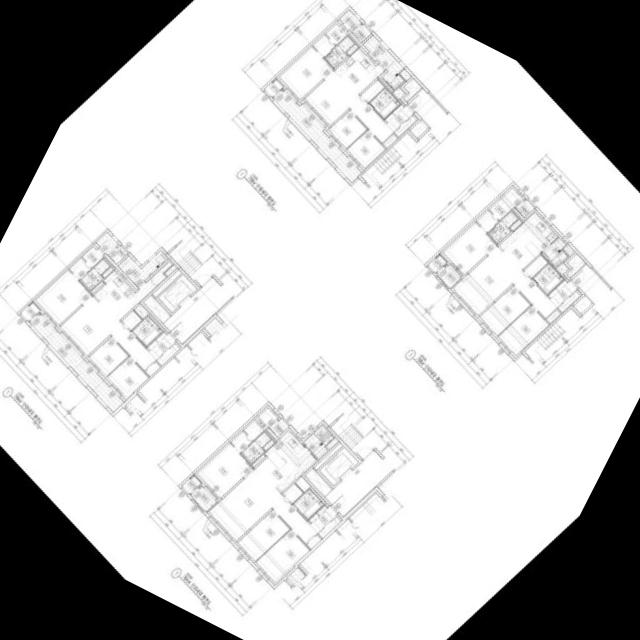background: (0, 0, 640, 640)
space_balconi: (29, 313, 124, 413), (272, 89, 361, 183), (362, 35, 404, 91), (117, 251, 168, 287), (303, 426, 333, 459), (541, 238, 567, 268), (190, 486, 216, 512), (436, 264, 461, 289), (339, 10, 361, 33)
space_bedroom: (197, 443, 253, 499), (35, 270, 91, 326), (442, 222, 496, 276), (279, 47, 333, 100), (255, 530, 309, 583), (237, 510, 289, 562), (498, 306, 548, 356), (479, 287, 530, 336), (107, 357, 148, 398), (89, 338, 128, 377), (328, 111, 367, 149), (347, 131, 385, 169)
space_dressroom: (230, 408, 277, 453), (476, 188, 522, 233), (312, 24, 347, 57), (69, 247, 103, 280)
space_elevator: (157, 275, 197, 313), (319, 448, 358, 486)
space_elevator_hall: (324, 451, 393, 517), (163, 278, 231, 344)
space_front: (547, 280, 577, 308), (146, 332, 176, 360), (384, 104, 413, 132), (308, 505, 337, 533)
space_kitchen: (95, 262, 172, 321), (257, 431, 316, 493), (499, 213, 557, 270), (335, 48, 383, 95)
space_living_room: (208, 467, 317, 544), (453, 247, 557, 319), (60, 295, 156, 371), (305, 70, 394, 144)
space_other: (95, 232, 127, 265), (313, 443, 343, 471), (143, 295, 171, 324), (304, 468, 332, 497), (152, 270, 181, 298), (524, 255, 548, 278), (361, 80, 384, 103), (318, 517, 341, 539), (157, 344, 179, 366), (403, 78, 422, 103), (558, 292, 580, 313), (394, 116, 416, 137), (566, 254, 585, 278), (283, 484, 303, 504), (573, 295, 592, 315), (268, 419, 288, 438), (122, 311, 141, 331), (409, 120, 429, 139), (515, 200, 534, 218), (352, 25, 371, 43), (306, 535, 321, 550), (145, 362, 160, 377), (382, 134, 397, 148), (546, 310, 560, 324), (134, 305, 148, 319), (90, 282, 103, 294), (252, 455, 265, 467), (399, 69, 411, 82), (392, 88, 404, 100), (509, 220, 521, 232), (346, 44, 358, 56), (556, 264, 567, 275), (562, 246, 573, 257), (263, 440, 274, 451), (102, 267, 113, 278), (326, 439, 337, 449), (164, 266, 175, 276)
space_outdoor_room: (181, 475, 201, 495), (427, 254, 446, 273), (264, 79, 283, 98)
space_toilet: (324, 36, 354, 69), (532, 264, 563, 295), (131, 316, 162, 347), (369, 88, 400, 119), (487, 212, 517, 244), (241, 432, 271, 464), (80, 259, 110, 291), (293, 489, 323, 520)
